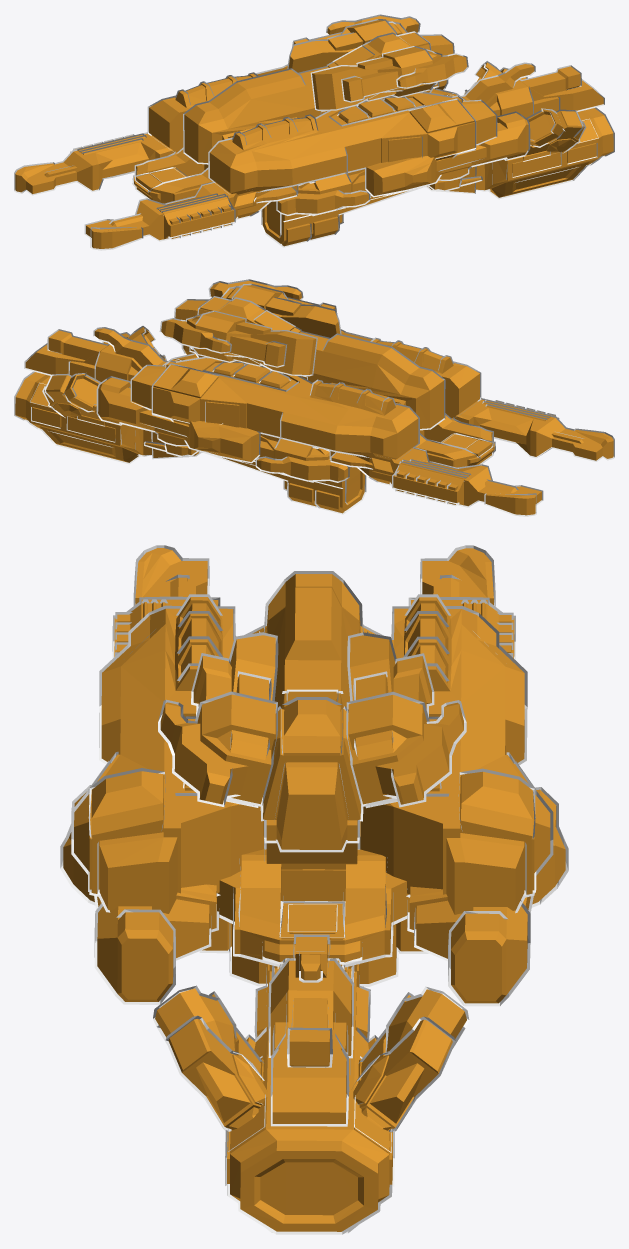
The model's file is ship3.glb.
3 views of the same model, one above another, from view 1: azimuth 30°, elevation 25°; view 2: azimuth 150°, elevation 25°; view 3: azimuth 270°, elevation 25° (orthographic). The views are drawn at different scales.
Parts seen in each view (by area): view 1: ME_ship_IndexedFaceSet.001, ME_ship_IndexedFaceSet; view 2: ME_ship_IndexedFaceSet.001, ME_ship_IndexedFaceSet; view 3: ME_ship_IndexedFaceSet.001, ME_ship_IndexedFaceSet.
Part boxes in pixels (x1,y1,x2,y2): ME_ship_IndexedFaceSet.001: (14, 14, 497, 250); ME_ship_IndexedFaceSet: (261, 61, 614, 247); ME_ship_IndexedFaceSet.001: (130, 279, 614, 516); ME_ship_IndexedFaceSet: (14, 326, 366, 514); ME_ship_IndexedFaceSet.001: (71, 545, 553, 914); ME_ship_IndexedFaceSet: (60, 785, 568, 1234).
Size of the model in its own units: 789 by 249 by 320.
